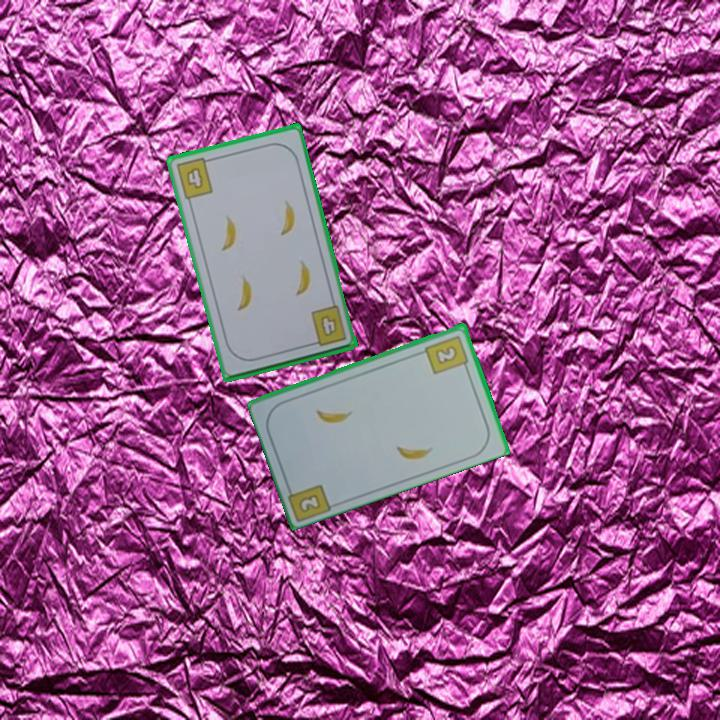2b: (283, 480, 335, 523), (422, 332, 471, 377)
4b: (172, 154, 216, 202), (306, 302, 349, 349)
